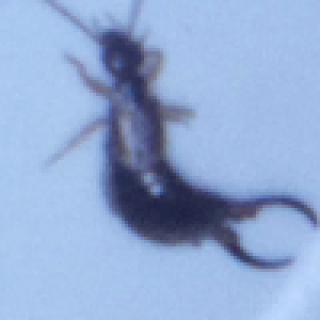earwig: (32, 0, 317, 272)
